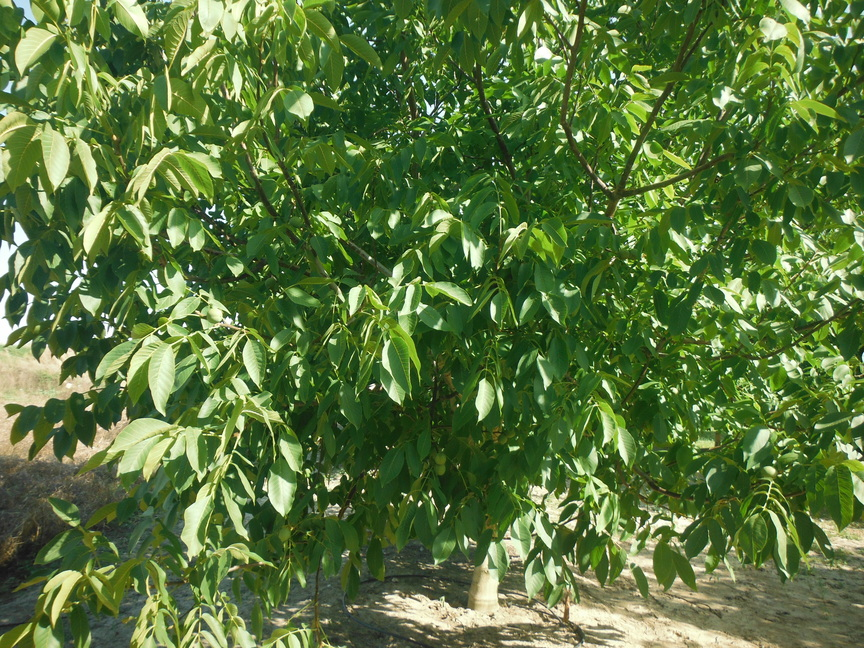walnut: (11, 73, 33, 102), (204, 305, 225, 325), (759, 464, 780, 480), (278, 524, 294, 543), (288, 213, 304, 230), (433, 449, 448, 466), (433, 461, 448, 478), (263, 275, 278, 291), (617, 247, 630, 263), (603, 81, 615, 97), (496, 433, 508, 447), (506, 426, 518, 439), (629, 248, 640, 260)
